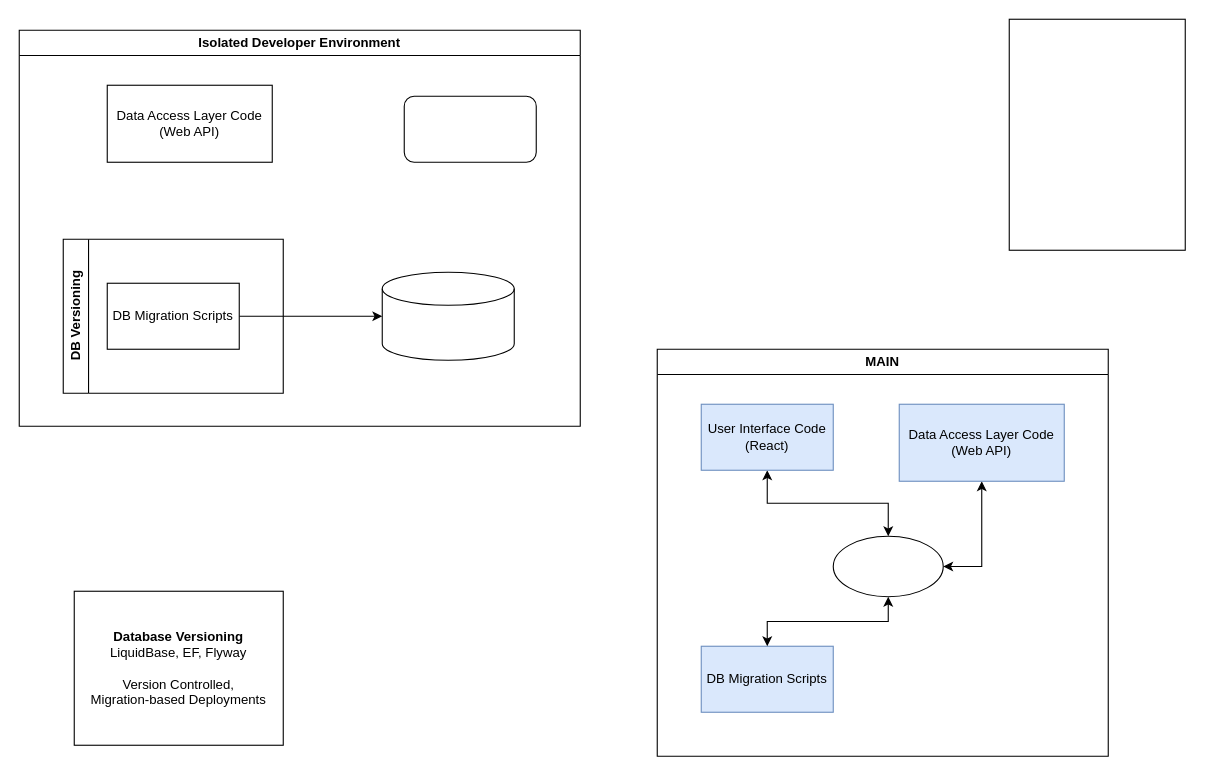
This 1205x776 diagram has some shape labels left out. The centre of each missing label's shape, as x and y in pixels:
"Docker (if needed)" belongs at (469,128).
"Local DB" belongs at (447,315).
"MAIN Upstream Repo" belongs at (1096,134).
"Version Sync" belongs at (887,566).
